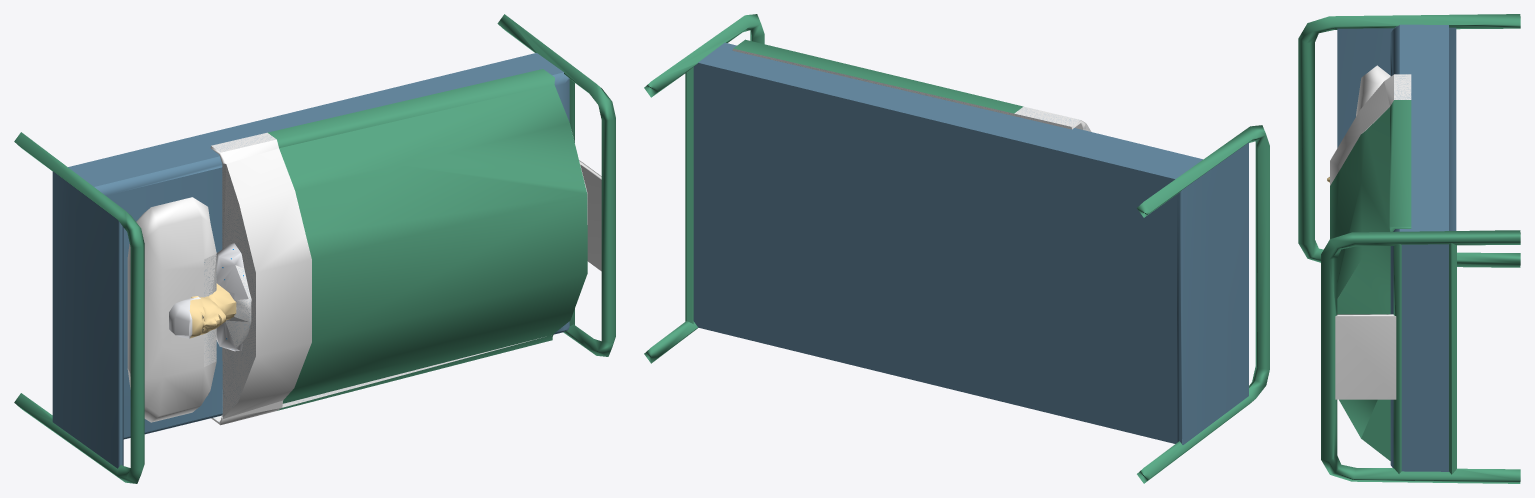
The model's file is bed_2_with_patient.dae.
The picture shows the model from 3 angles, left to right: view 1: azimuth 30°, elevation 25°; view 2: azimuth 150°, elevation 25°; view 3: azimuth 270°, elevation 25°; orthographic projection. The views are drawn at different scales.
Parts seen in each view (by area): view 1: coords_ME_ID347_MA_material_7, coords_ME_ID315_MA_material_9, coords_ME_ID341_MA_material_8, coords_ME_ID307_MA_material_8, coords_ME_ID299_MA_material_7, coords_ME_ID329_MA_material_7, coords_ME_ID335_MA_material_1, coords_ME_ID4_MA_material, coords_ME_ID12_MA_material_0, coords_ME_ID377_MA_material_8, coords_ME_ID335_MA_material_2, coords_ME_ID70_MA_material_1 (+3 smaller); view 2: coords_ME_ID483_MA_material_9, coords_ME_ID315_MA_material_9, coords_ME_ID299_MA_material_7, coords_ME_ID329_MA_material_7, coords_ME_ID347_MA_material_7, coords_ME_ID365_MA_material_1; view 3: coords_ME_ID315_MA_material_9, coords_ME_ID347_MA_material_7, coords_ME_ID329_MA_material_7, coords_ME_ID299_MA_material_7, coords_ME_ID377_MA_material_8, coords_ME_ID341_MA_material_8, coords_ME_ID307_MA_material_8, coords_ME_ID365_MA_material_1.
Part boxes in pixels (box(x1,y1,x2,y2)): coords_ME_ID347_MA_material_7: box(268, 69, 587, 410); coords_ME_ID315_MA_material_9: box(52, 53, 569, 468); coords_ME_ID341_MA_material_8: box(210, 139, 311, 425); coords_ME_ID307_MA_material_8: box(127, 197, 216, 422); coords_ME_ID299_MA_material_7: box(14, 132, 144, 483); coords_ME_ID329_MA_material_7: box(497, 14, 615, 356); coords_ME_ID335_MA_material_1: box(222, 163, 255, 417); coords_ME_ID4_MA_material: box(216, 243, 248, 351); coords_ME_ID12_MA_material_0: box(189, 283, 236, 338); coords_ME_ID377_MA_material_8: box(579, 160, 601, 271); coords_ME_ID335_MA_material_2: box(222, 165, 255, 414); coords_ME_ID70_MA_material_1: box(225, 265, 251, 347); coords_ME_ID483_MA_material_9: box(693, 63, 1176, 443); coords_ME_ID315_MA_material_9: box(698, 42, 1248, 444); coords_ME_ID299_MA_material_7: box(1137, 125, 1269, 483); coords_ME_ID329_MA_material_7: box(644, 14, 764, 363); coords_ME_ID347_MA_material_7: box(733, 39, 1023, 113); coords_ME_ID365_MA_material_1: box(733, 48, 1080, 129); coords_ME_ID315_MA_material_9: box(1337, 24, 1456, 471); coords_ME_ID347_MA_material_7: box(1330, 100, 1411, 460); coords_ME_ID329_MA_material_7: box(1321, 230, 1520, 483); coords_ME_ID299_MA_material_7: box(1298, 14, 1520, 267); coords_ME_ID377_MA_material_8: box(1335, 314, 1396, 399); coords_ME_ID341_MA_material_8: box(1330, 74, 1393, 185); coords_ME_ID307_MA_material_8: box(1356, 65, 1390, 116); coords_ME_ID365_MA_material_1: box(1394, 74, 1411, 99).
Bounding box in the file's own units: 23.88 × 12.71 × 10.08.
